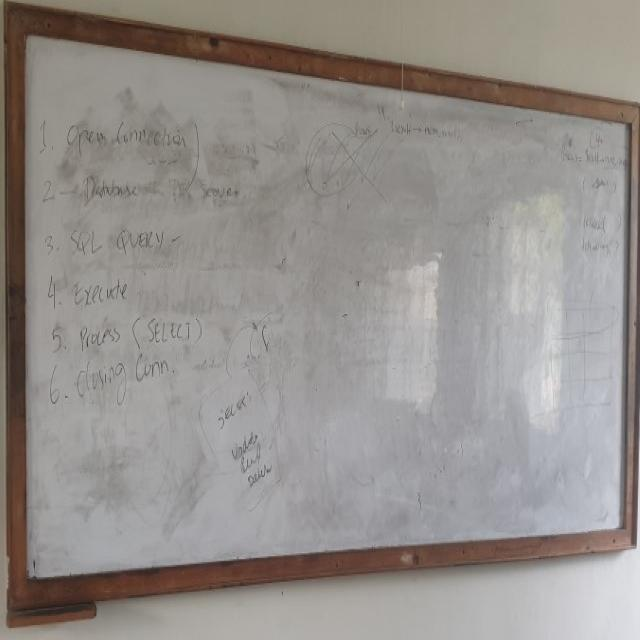White-board: (18, 13, 638, 595)
